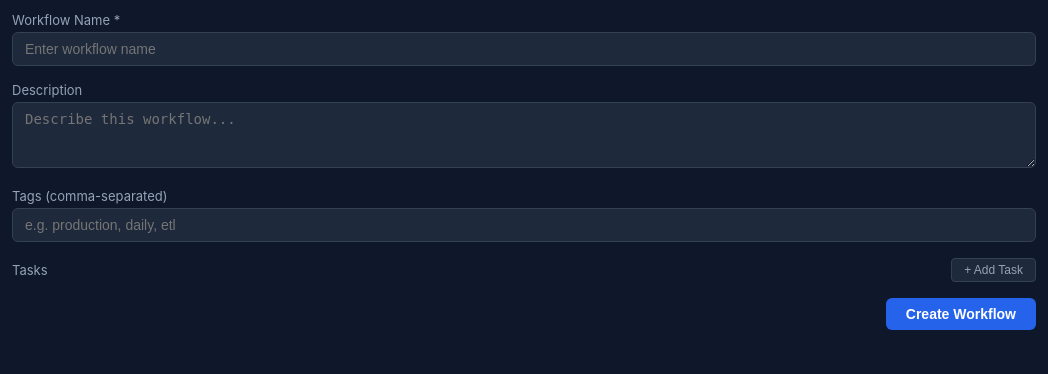
WorkflowForm › renders tag chips from comma-separated input
The width and height of the screenshot is (1048, 374).
Type "alpha, beta, gamma" into the field with test id "workflow-tags-input".
click(524, 225); type("alpha, beta, gamma")  # box [12,208,1036,242]
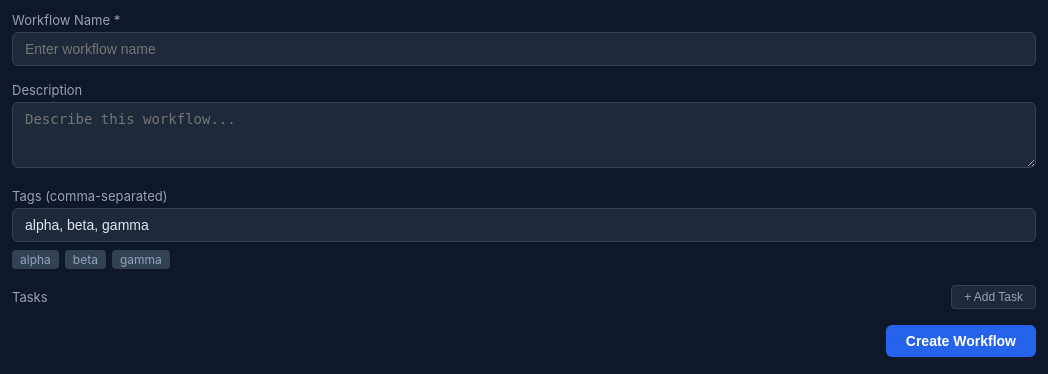
Now the text "alpha" is shown, box [12,250,59,269]
Now the text "beta" is shown, box [65,250,106,269]
Now the text "gamma" is shown, box [112,250,170,269]
